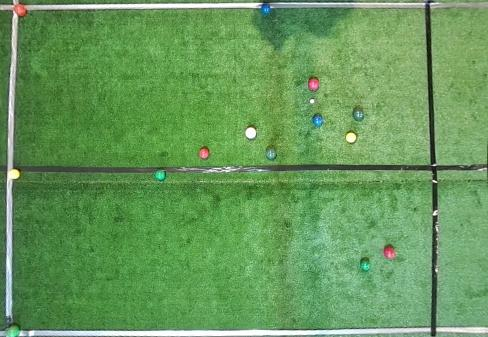blue: (312, 114, 323, 127), (261, 4, 270, 15)
green: (265, 148, 277, 160), (155, 169, 166, 181), (353, 109, 364, 121), (8, 325, 20, 336), (360, 260, 370, 270)
red: (383, 246, 395, 259), (14, 4, 27, 16), (245, 127, 256, 139), (308, 78, 319, 90), (199, 148, 210, 159)
vline: (424, 1, 487, 336), (0, 0, 21, 336)
white: (310, 99, 314, 104)
yellow: (346, 132, 357, 143), (8, 169, 20, 179)
